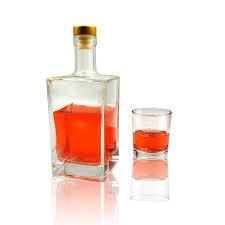alcohol: (49, 25, 118, 181)
